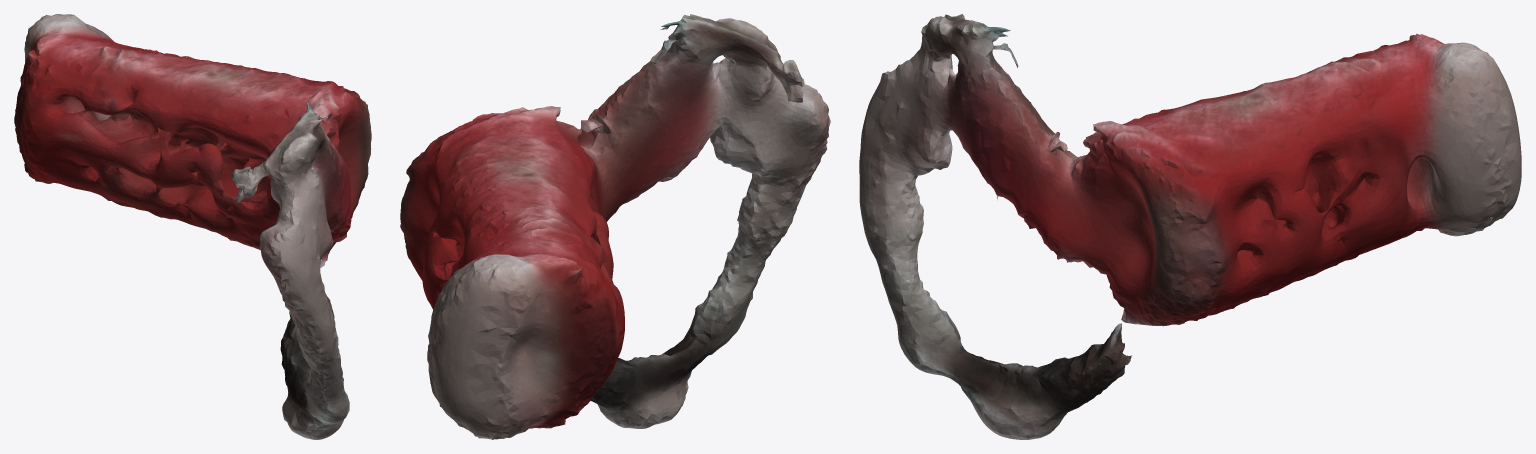
File: IMG_SEG_47.glb
3 views of the same model, side by side, from view 1: azimuth 30°, elevation 25°; view 2: azimuth 150°, elevation 25°; view 3: azimuth 270°, elevation 25° (orthographic). The views are drawn at different scales.
Size of the model in its own units: 0.8499 by 1.06 by 1.59.
1 material, 1 textured.
